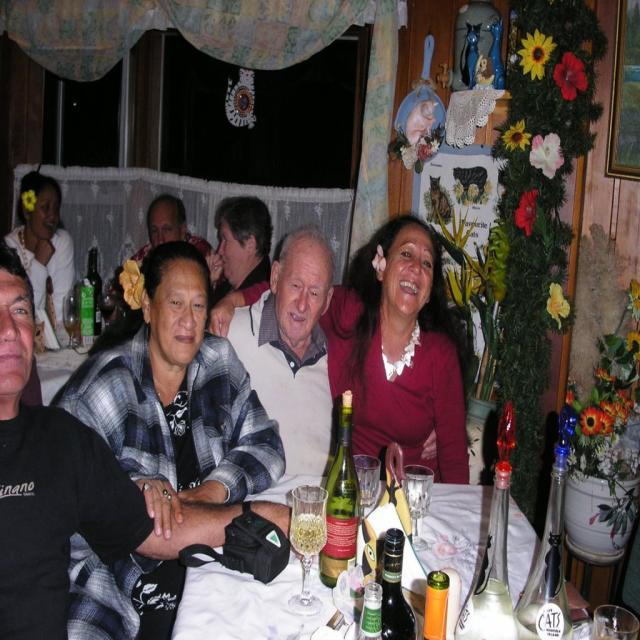body: (51, 238, 288, 640), (207, 210, 471, 490), (56, 238, 288, 548), (208, 218, 450, 486), (109, 191, 216, 337), (1, 169, 77, 326), (202, 194, 274, 310)
